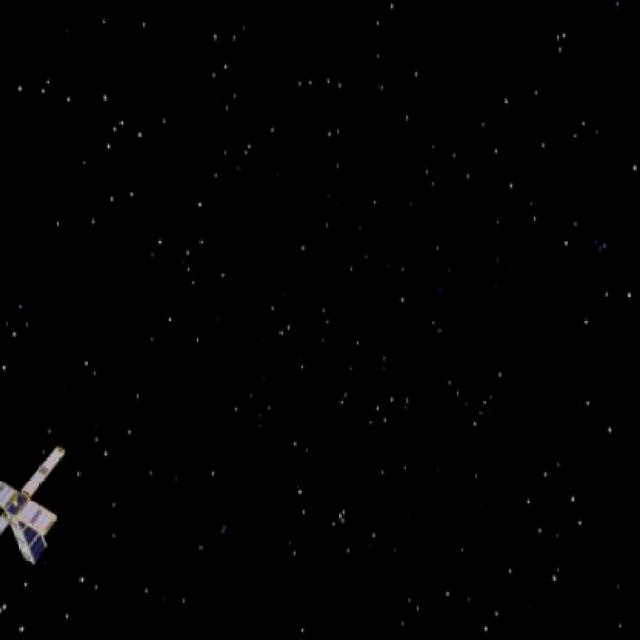medium_debris: (0, 446, 75, 577)
